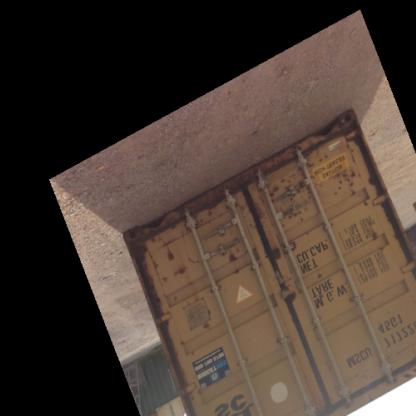Damage: (266, 169, 314, 227), (322, 156, 364, 204), (194, 202, 226, 228), (166, 210, 192, 234), (265, 242, 287, 266), (196, 309, 216, 335), (158, 242, 178, 266), (141, 243, 156, 273), (345, 292, 365, 310), (284, 288, 300, 310), (202, 282, 224, 298), (320, 223, 335, 244), (171, 266, 191, 280), (268, 334, 282, 350), (167, 292, 182, 306), (223, 251, 235, 268), (156, 274, 172, 286), (232, 265, 244, 280), (366, 230, 376, 246), (314, 274, 326, 286), (172, 340, 186, 350)
